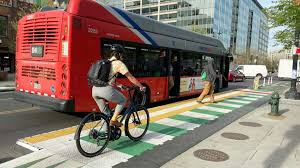bus: (14, 1, 234, 115)
